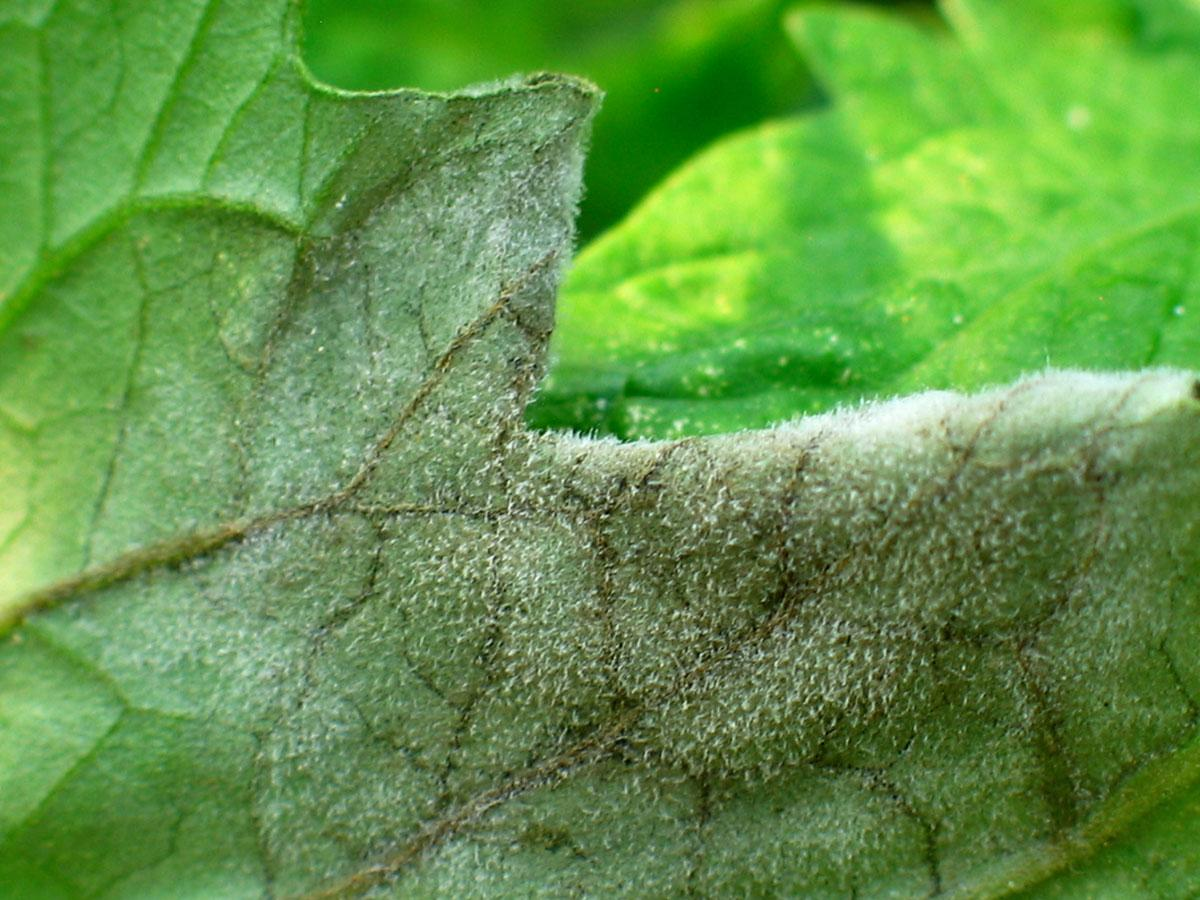Tomato leaf mosaic virus: (14, 8, 1200, 900)
